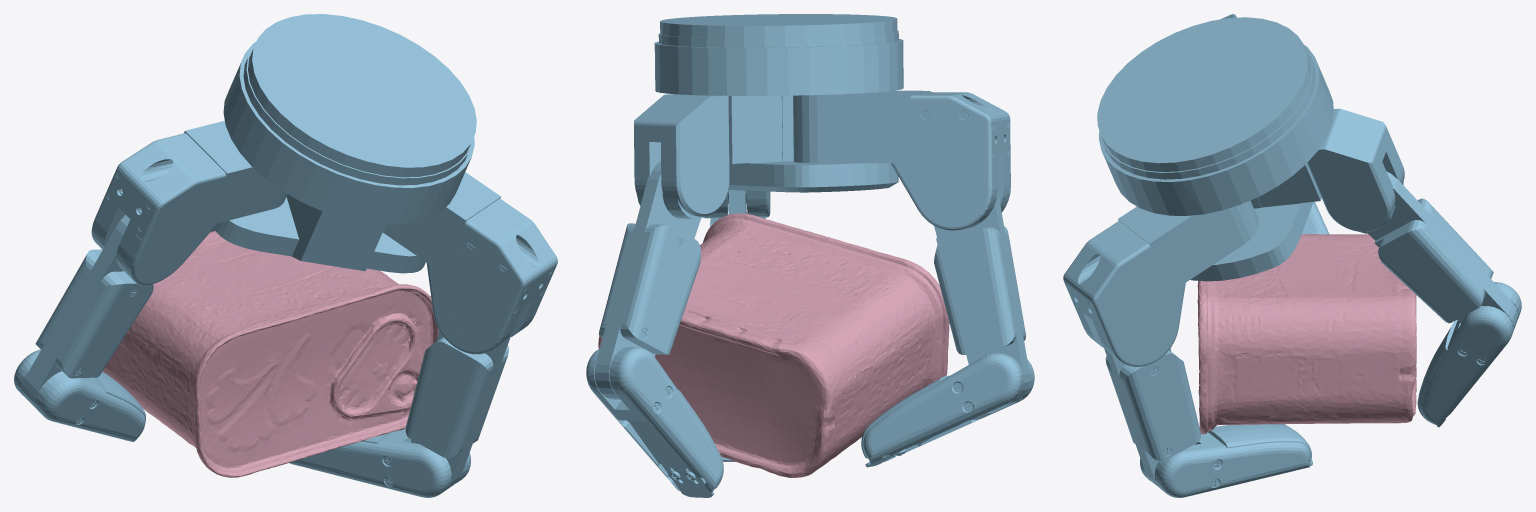
Rendered from Barrett_ycb+potted_meat_can_mesh.glb.
3 renders of one model, left to right at view 1: azimuth 30°, elevation 25°; view 2: azimuth 150°, elevation 25°; view 3: azimuth 270°, elevation 25°, orthographic. The views are drawn at different scales.
Visible parts, largest first — view 1: world; view 2: world; view 3: world.
Boxes of the visible parts, x1=… form: world: x1=14, y1=14, x2=557, y2=497; world: x1=586, y1=14, x2=1034, y2=497; world: x1=1063, y1=14, x2=1521, y2=497.
Bounding box in the file's own units: 0.1775 × 0.1739 × 0.175.
